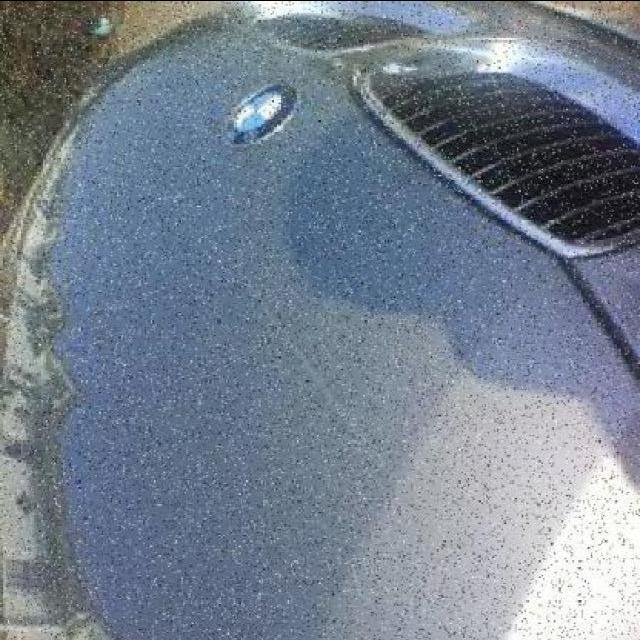bonnet-dent: (60, 66, 566, 640)
